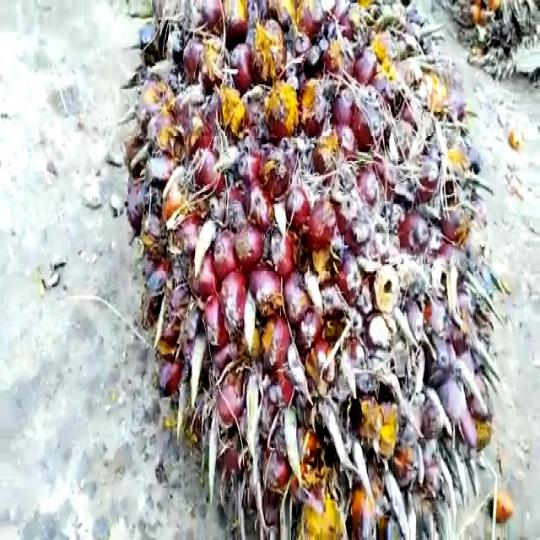masak: (118, 0, 500, 540)
